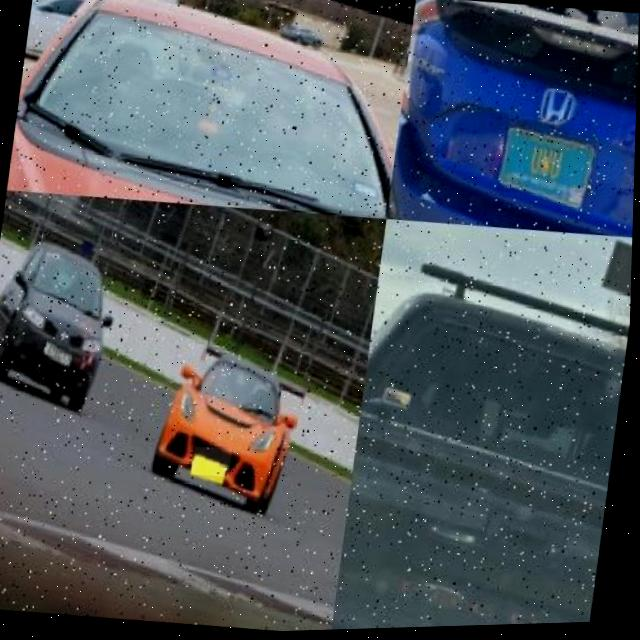LicensePlate: (501, 122, 597, 201), (195, 447, 234, 478), (46, 339, 73, 360)
